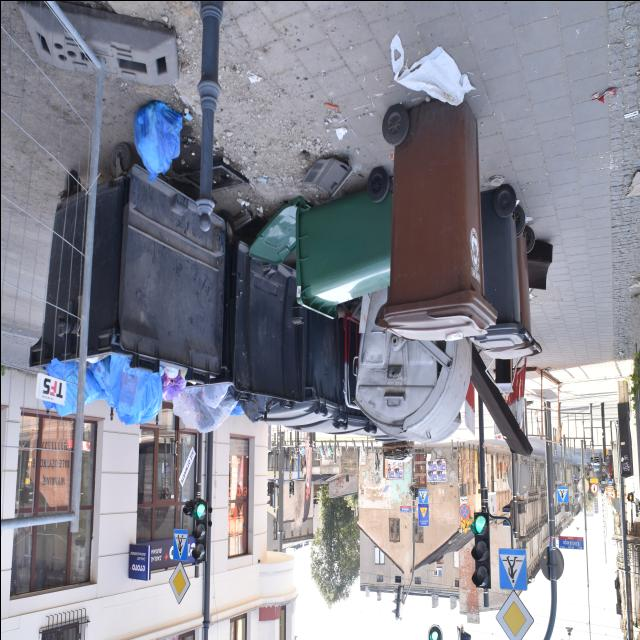lixo domiciliar: (39, 352, 190, 426), (384, 32, 476, 110), (166, 377, 252, 435), (130, 96, 182, 180), (236, 384, 274, 426), (622, 164, 640, 200), (588, 84, 616, 106), (243, 68, 264, 86), (251, 170, 271, 188), (333, 126, 349, 140)
